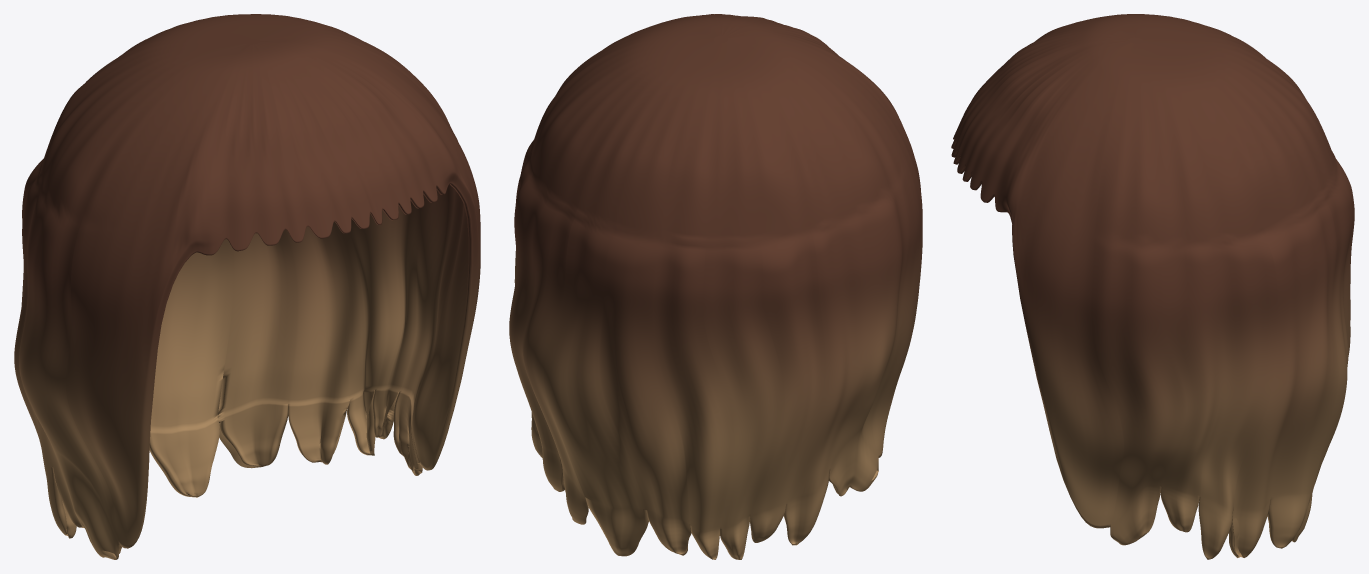
The model's file is long-bucket-ombre.glb.
The picture shows the model from 3 angles, left to right: view 1: azimuth 30°, elevation 25°; view 2: azimuth 150°, elevation 25°; view 3: azimuth 270°, elevation 25°; orthographic projection. The views are drawn at different scales.
Visible parts, largest first — view 1: Hair / rounded long fringe; view 2: Hair / rounded long fringe; view 3: Hair / rounded long fringe.
Part boxes in pixels (x1,y1,x2,y2): Hair / rounded long fringe: (14,14,480,559); Hair / rounded long fringe: (509,14,922,559); Hair / rounded long fringe: (951,14,1354,559).
Bounding box in the file's own units: 0.8536 × 1.05 × 0.7801.
